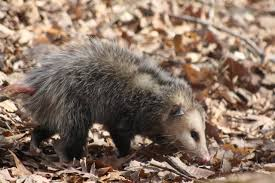opossum: (15, 44, 212, 162)
